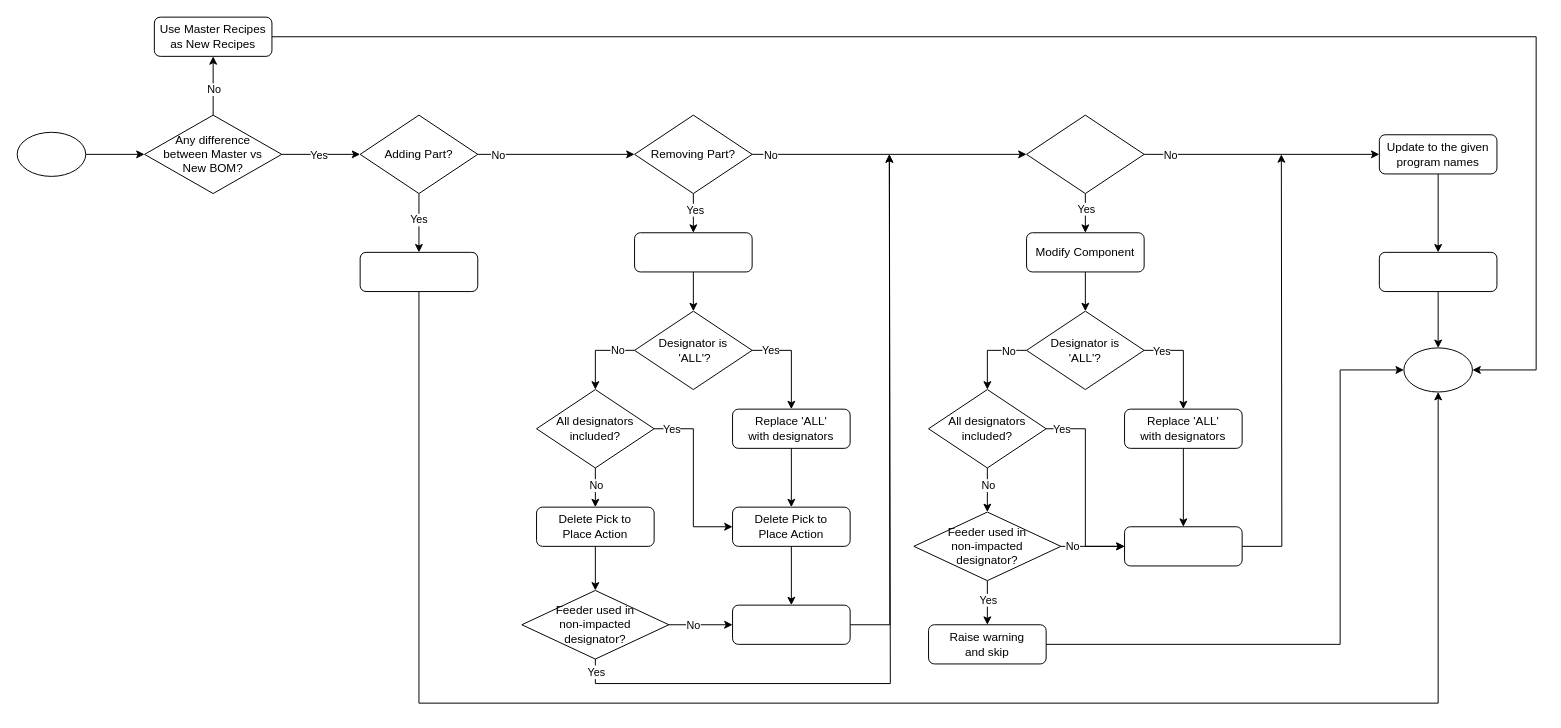
This 1561x728 diagram has some shape labels left out. Here are the shapes that lost their labels. From the top down, the centre of each, then its label:
(x=51, y=153): Start
(x=1085, y=154): Subbing Part?
(x=418, y=271): Raise warning and skip.
(x=693, y=252): Delete Component
(x=1437, y=271): Generate New BOM Recipes
(x=1437, y=369): End
(x=1183, y=546): Modify Feeder Lane
(x=791, y=624): Delete Feeder Lane
